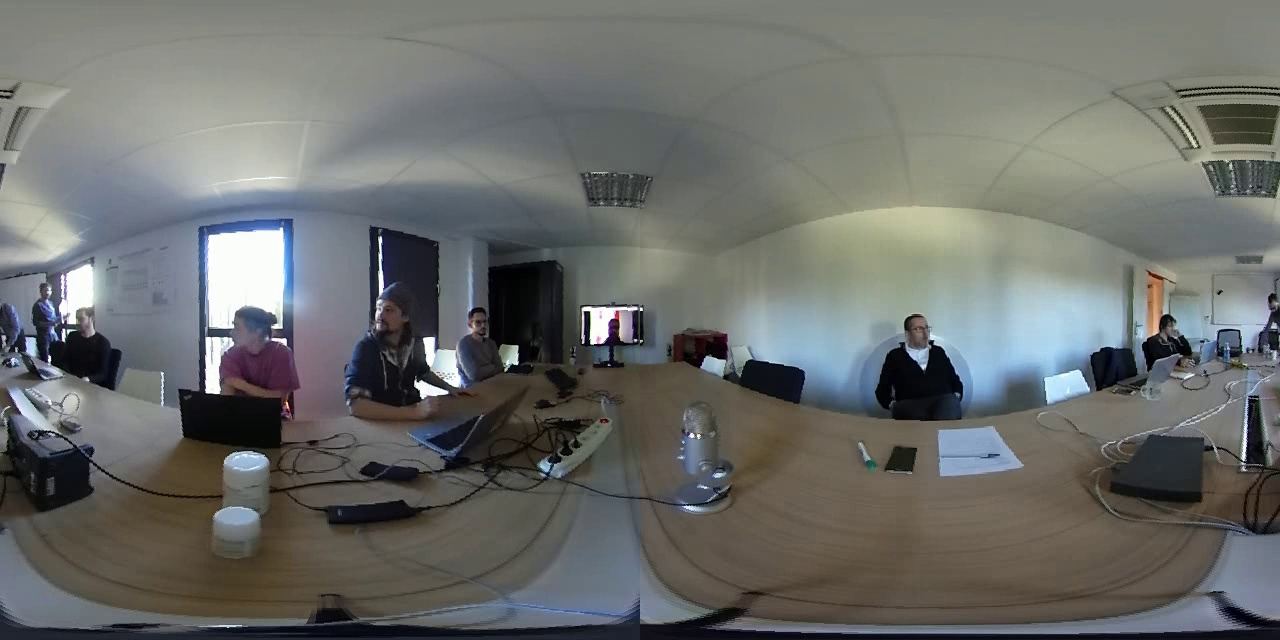person: (337, 274, 443, 424), (879, 306, 972, 432), (214, 300, 302, 401), (455, 298, 502, 386), (64, 304, 113, 386), (1137, 309, 1190, 360), (26, 282, 63, 344), (585, 307, 638, 344), (1255, 288, 1280, 349)
